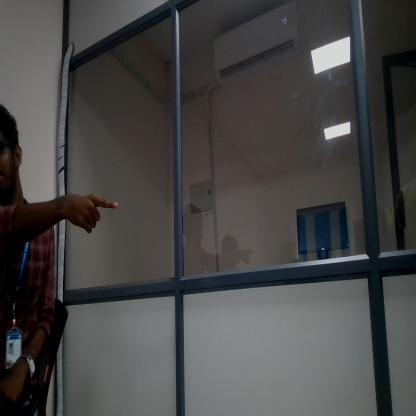Left: (60, 170, 117, 232)
